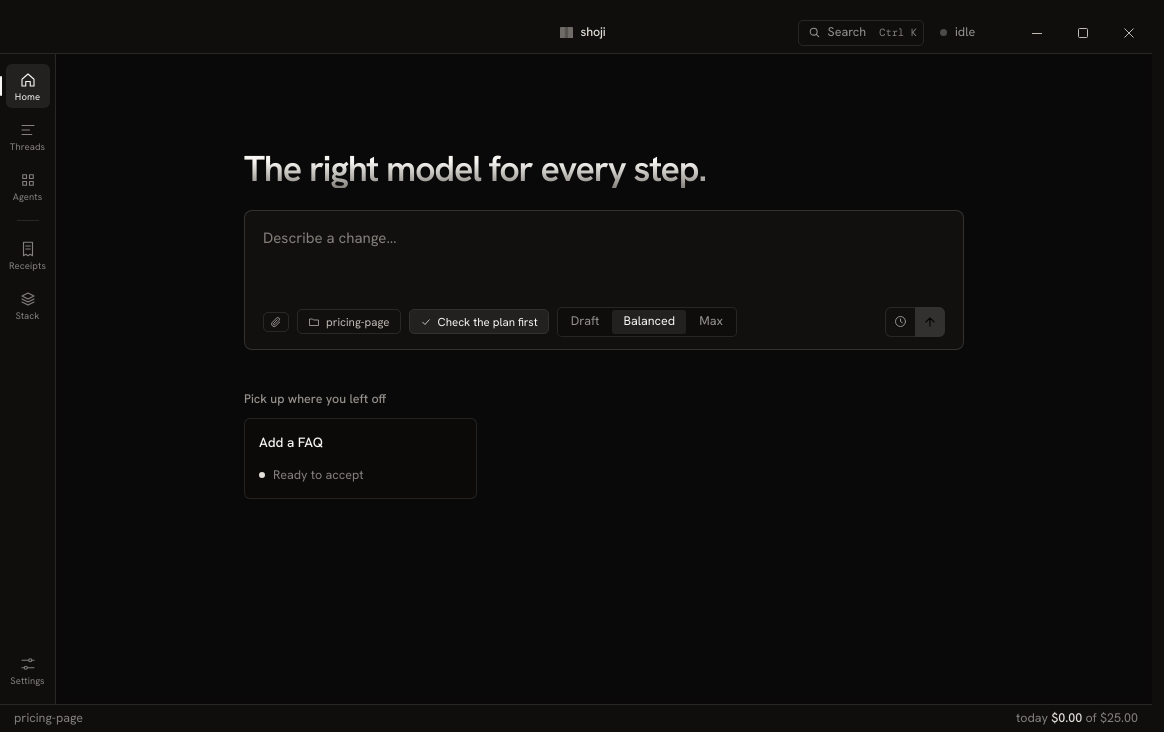
Test: Home › has no projects list for one project, and opens a thread to pick up
This screenshot has width=1164, height=732.
Click the button "Add a FAQ Ready to accept": coordinates (361, 459) [244, 418, 477, 499]
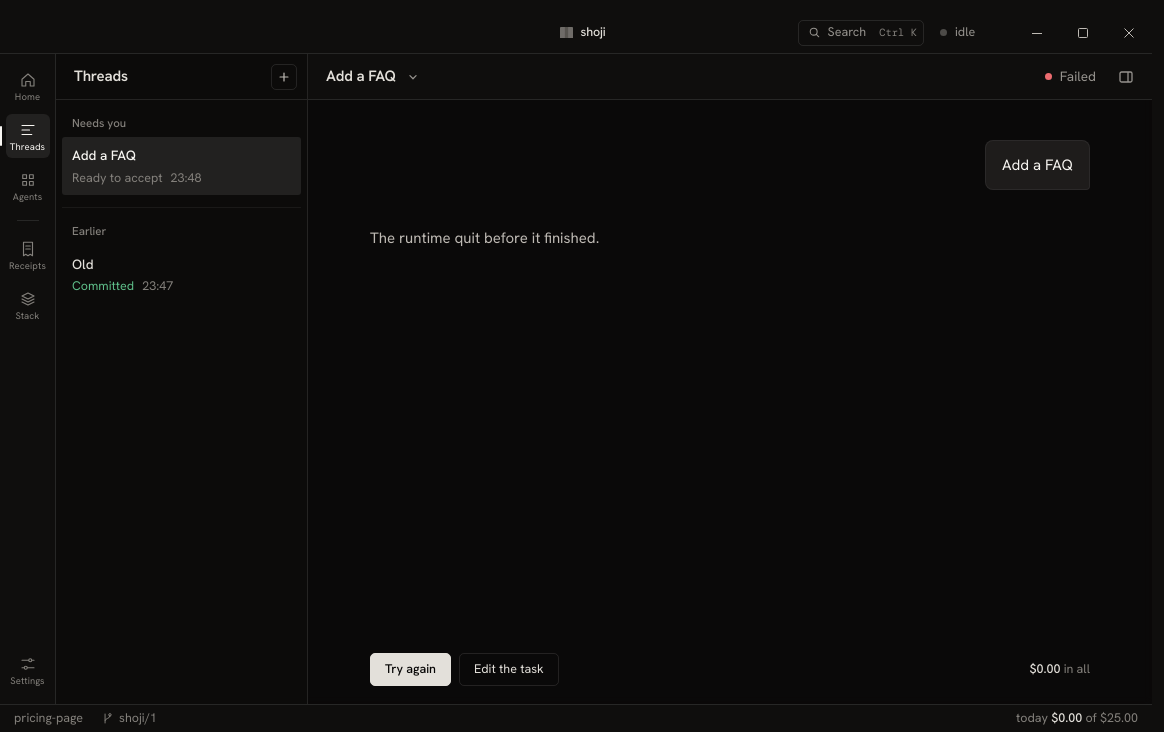
Now the heading "Add a FAQ" is shown, box [326, 65, 396, 88]
